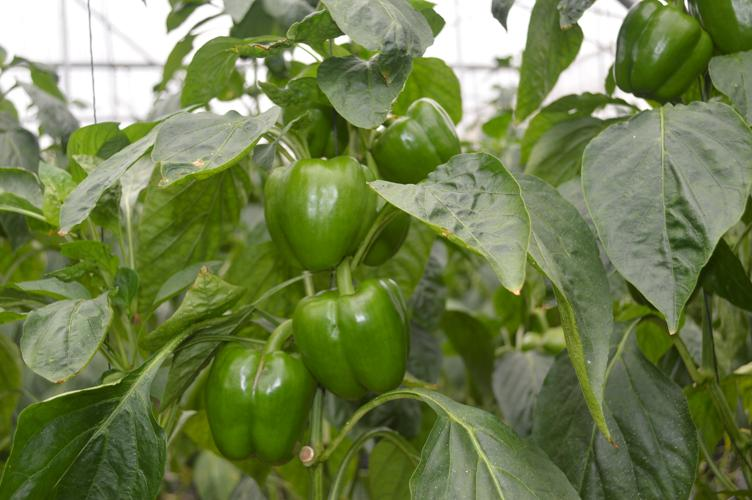BellPepper: (187, 332, 318, 469), (290, 278, 422, 401), (259, 147, 372, 275), (607, 1, 724, 116), (366, 95, 465, 177)
